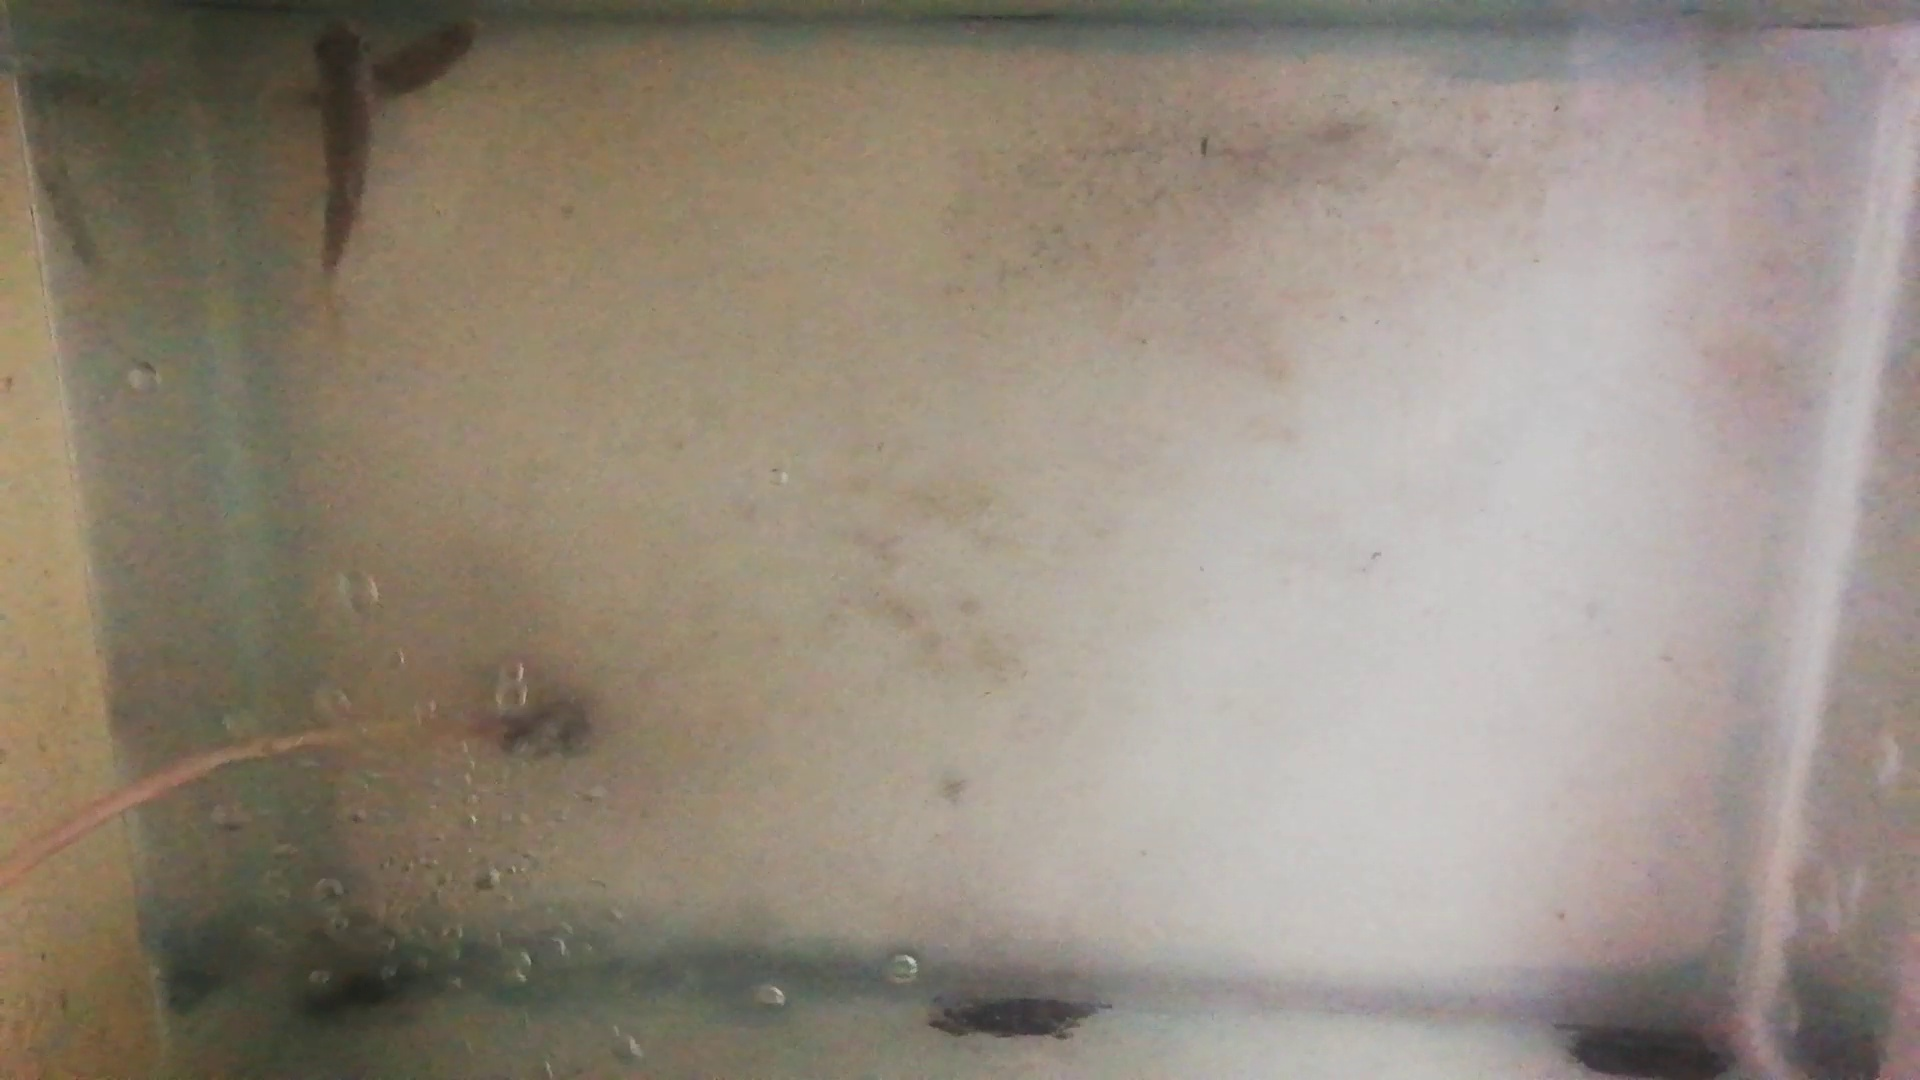fish: (310, 11, 375, 277), (297, 18, 483, 105)
